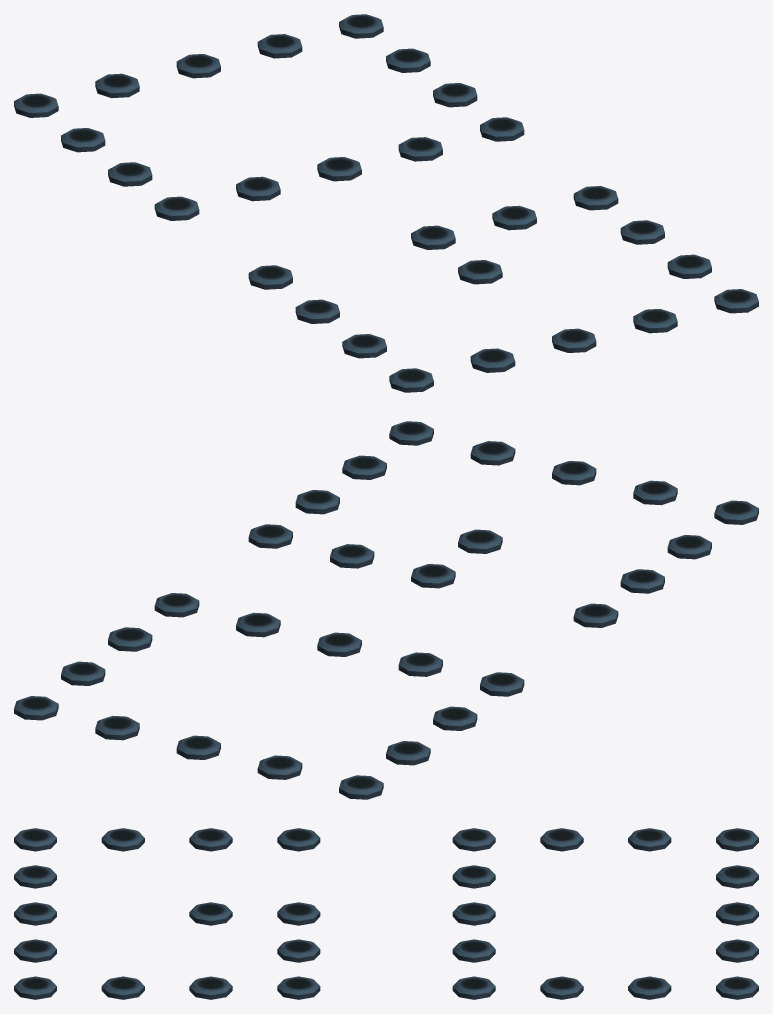
The picture shows the model from 3 angles, top to bottom: view 1: azimuth 30°, elevation 25°; view 2: azimuth 150°, elevation 25°; view 3: azimuth 270°, elevation 25°; orthographic projection. The views are drawn at different scales.
Visible parts, largest first — view 1: jianci1 (18), jianci1 (1), jianci1 (22), jianci1 (10), jianci1, jianci1 (2), jianci1 (11), jianci1 (12), jianci1 (19), jianci1 (6), jianci1 (15), jianci1 (23) (+16 smaller); view 2: jianci1 (6), jianci1 (11), jianci1, jianci1 (20), jianci1 (1), jianci1 (15), jianci1 (22), jianci1 (8), jianci1 (21), jianci1 (2), jianci1 (7), jianci1 (9) (+16 smaller); view 3: jianci1 (14), jianci1 (24), jianci1 (2), jianci1 (12), jianci1 (15), jianci1 (21), jianci1 (10), jianci1 (20), jianci1 (8), jianci1 (19), jianci1 (1), jianci1 (5) (+16 smaller).
Part boxes in pixels (box(x1,y1,x2,y2)): jianci1 (18): box(470, 348, 515, 372); jianci1 (1): box(154, 196, 199, 220); jianci1 (22): box(573, 186, 618, 210); jianci1 (10): box(257, 34, 302, 58); jianci1: box(248, 265, 292, 289); jianci1 (2): box(108, 162, 152, 186); jianci1 (11): box(480, 117, 524, 141); jianci1 (12): box(339, 14, 383, 38); jianci1 (19): box(552, 328, 596, 352); jianci1 (6): box(95, 73, 139, 98); jianci1 (15): box(295, 299, 339, 323); jianci1 (23): box(620, 220, 664, 244); jianci1 (6): box(257, 755, 302, 779); jianci1 (11): box(154, 593, 199, 617); jianci1: box(573, 603, 618, 627); jianci1 (20): box(470, 441, 515, 465); jianci1 (1): box(480, 672, 524, 696); jianci1 (15): box(620, 569, 664, 593); jianci1 (22): box(248, 524, 292, 548); jianci1 (8): box(176, 735, 220, 759); jianci1 (21): box(389, 421, 433, 445); jianci1 (2): box(433, 706, 477, 730); jianci1 (7): box(317, 632, 361, 656); jianci1 (9): box(236, 612, 280, 637); jianci1 (14): box(628, 976, 671, 999); jianci1 (24): box(101, 976, 144, 999); jianci1 (2): box(540, 828, 583, 851); jianci1 (12): box(716, 976, 758, 999); jianci1 (15): box(189, 828, 232, 851); jianci1 (21): box(14, 976, 56, 999); jianci1 (10): box(716, 939, 758, 962); jianci1 (20): box(14, 939, 56, 962); jianci1 (8): box(716, 902, 758, 925); jianci1 (19): box(14, 902, 56, 925); jianci1 (1): box(452, 828, 495, 851); jianci1 (5): box(452, 865, 495, 888).
Bounding box in the file's own units: 6.74 × 0.1315 × 12.74.
Materials: 1 (1 with a texture image).
